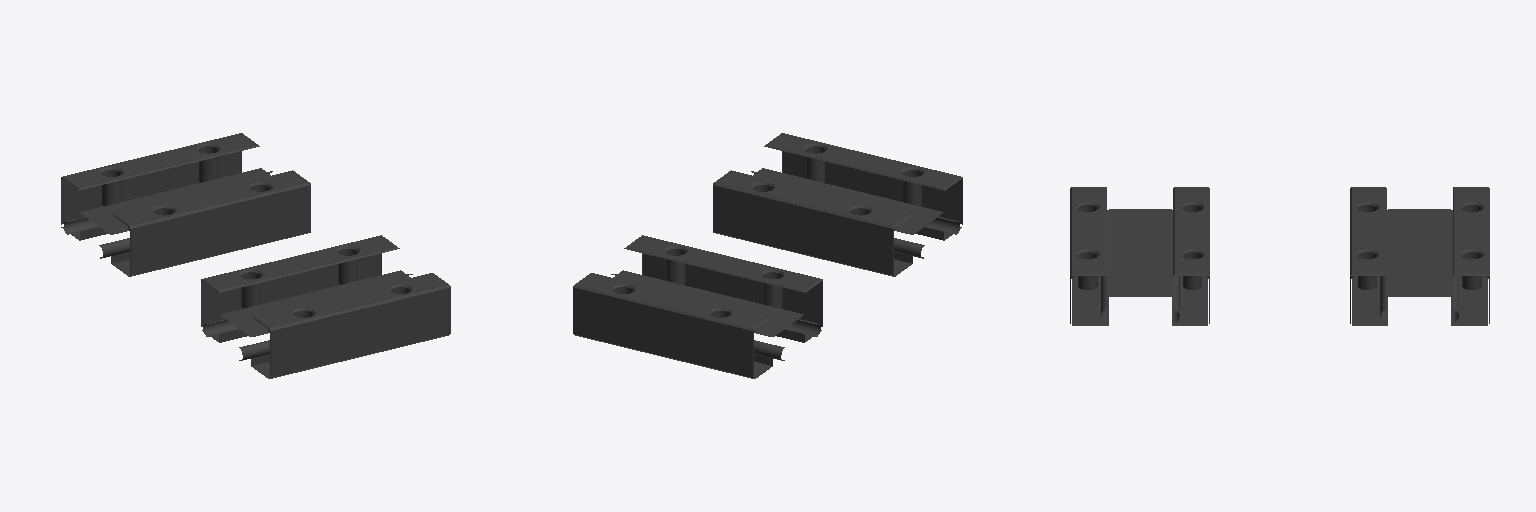
File: RightHorizontalSlider_2.obj
The picture shows the model from 3 angles: view 1: azimuth 30°, elevation 25°; view 2: azimuth 150°, elevation 25°; view 3: azimuth 270°, elevation 25°; orthographic projection.
Bounding box in the file's own units: 0.034 × 0.008 × 0.06.